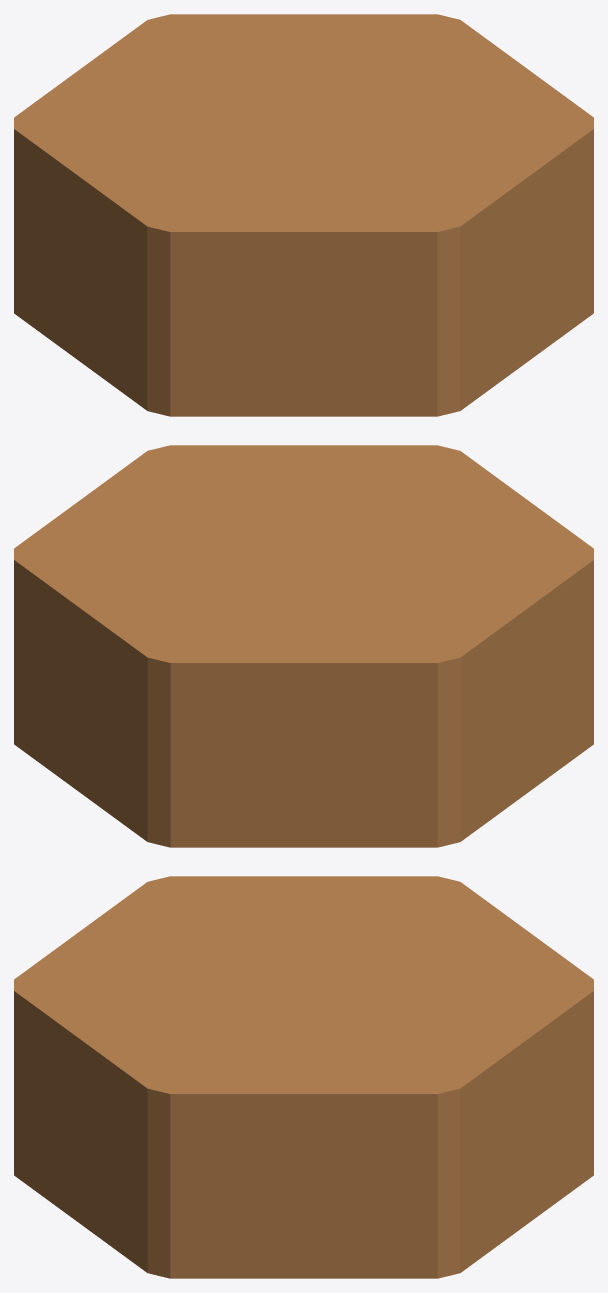
The model's file is Base_Middle.fbx.
The picture shows the model from 3 angles, top to bottom: view 1: azimuth 30°, elevation 25°; view 2: azimuth 150°, elevation 25°; view 3: azimuth 270°, elevation 25°; orthographic projection.
Visible parts, largest first — view 1: 柱体.007; view 2: 柱体.007; view 3: 柱体.007.
Part boxes in pixels (x1=…): 柱体.007: x1=14, y1=14, x2=593, y2=416; 柱体.007: x1=14, y1=445, x2=593, y2=847; 柱体.007: x1=14, y1=876, x2=593, y2=1278.
Bounding box in the file's own units: 1000 × 395 × 1125.
